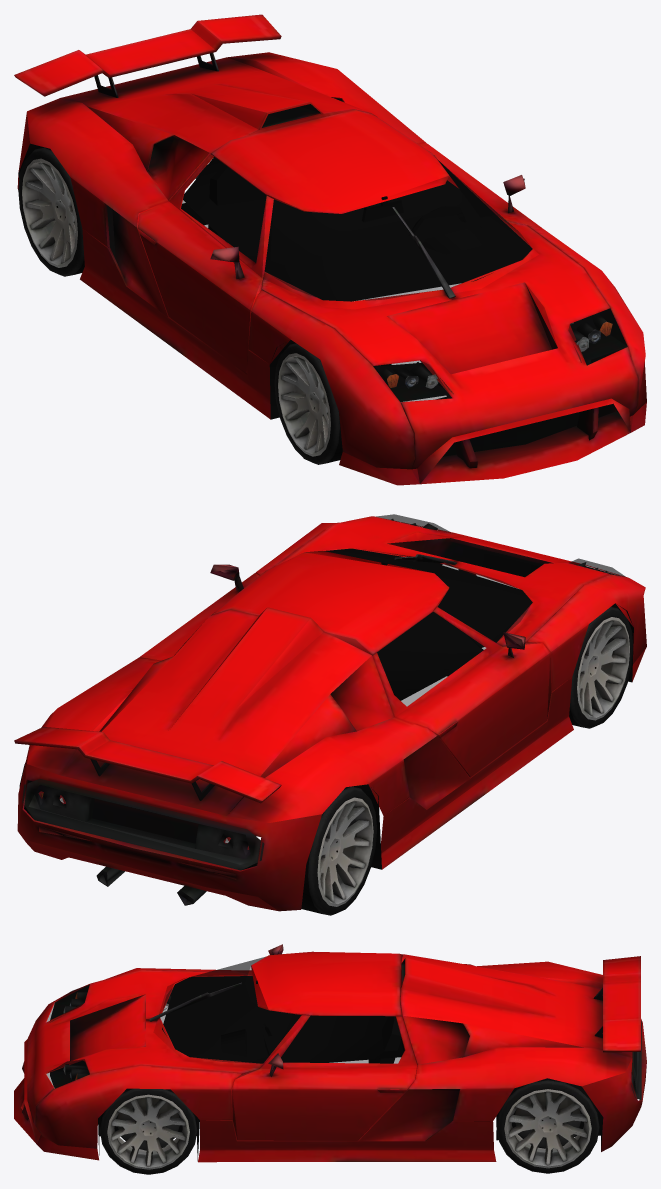
File: sport_lo.glb
3 renders of one model, top to bottom at view 1: azimuth 30°, elevation 25°; view 2: azimuth 150°, elevation 25°; view 3: azimuth 270°, elevation 25°, orthographic. The views are drawn at different scales.
Parts seen in each view (by area): view 1: body, wheel_rr, wheel_fr; view 2: body, wheel_rr, wheel_fr; view 3: body, wheel_rl, wheel_fl.
Part boxes in pixels (box(x1,y1,x2,y2)): body: box(14, 14, 646, 485); wheel_rr: box(18, 147, 84, 276); wheel_fr: box(274, 343, 342, 464); body: box(14, 514, 646, 911); wheel_rr: box(301, 786, 377, 915); wheel_fr: box(569, 606, 633, 728); body: box(14, 944, 646, 1162); wheel_rl: box(496, 1078, 599, 1173); wheel_fl: box(99, 1088, 197, 1174).
Bounding box in the file's own units: 2 × 1.2 × 4.47.
4 materials, 3 textured.
